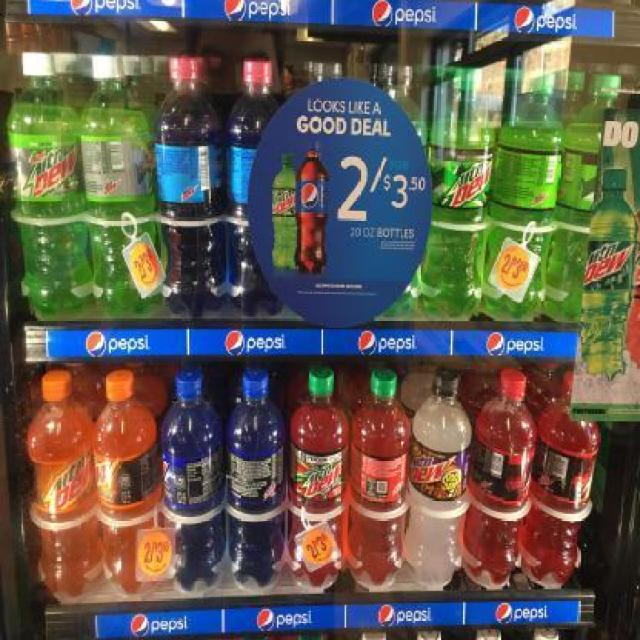Drinks: (418, 65, 496, 321), (6, 52, 80, 321), (152, 55, 226, 321), (81, 55, 153, 321), (28, 371, 94, 602), (158, 369, 224, 595), (92, 370, 156, 596), (473, 365, 536, 587), (225, 369, 287, 593), (350, 368, 412, 590), (411, 369, 473, 591), (288, 367, 350, 589), (536, 371, 599, 587)
